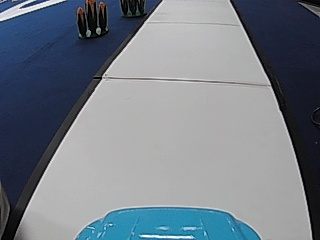corn: (74, 0, 110, 38), (120, 0, 146, 18)
